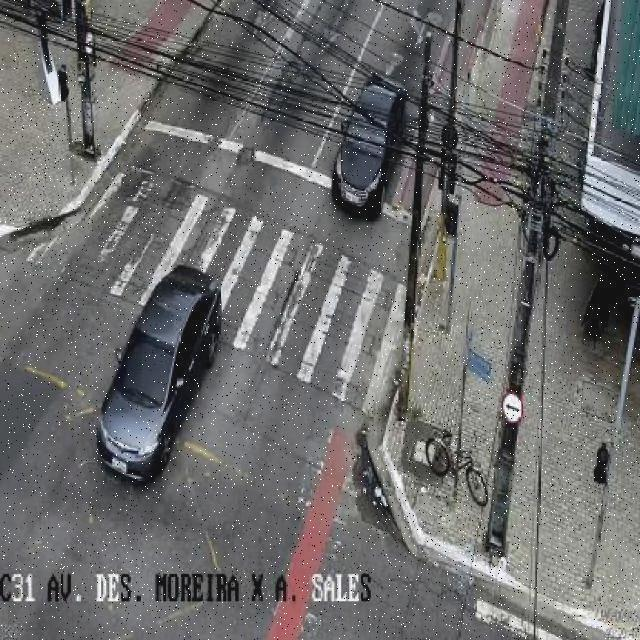Car: (94, 264, 224, 492), (327, 76, 410, 226)
Cycle: (416, 410, 494, 505)
